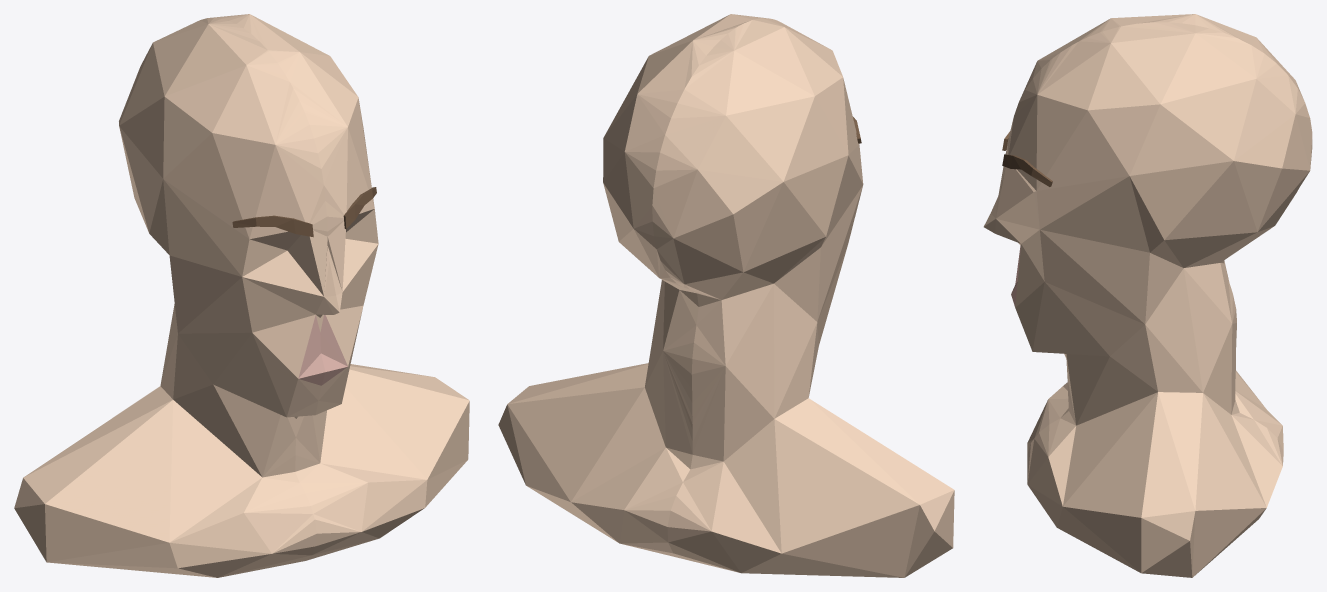
The model's file is qf_collapse.glb.
The picture shows the model from 3 angles, left to right: view 1: azimuth 30°, elevation 25°; view 2: azimuth 150°, elevation 25°; view 3: azimuth 270°, elevation 25°; orthographic projection. The views are drawn at different scales.
Parts seen in each view (by area): view 1: Head_Main, Eyebrow_R; view 2: Head_Main; view 3: Head_Main, Eyebrow_L.
Part boxes in pixels (x1,y1,x2,y2): Head_Main: (14,14,469,577); Eyebrow_R: (232,215,313,237); Head_Main: (498,14,954,577); Head_Main: (983,14,1312,577); Eyebrow_L: (1002,154,1052,186).
Bounding box in the file's own units: 0.3181 × 0.3418 × 0.2173.
